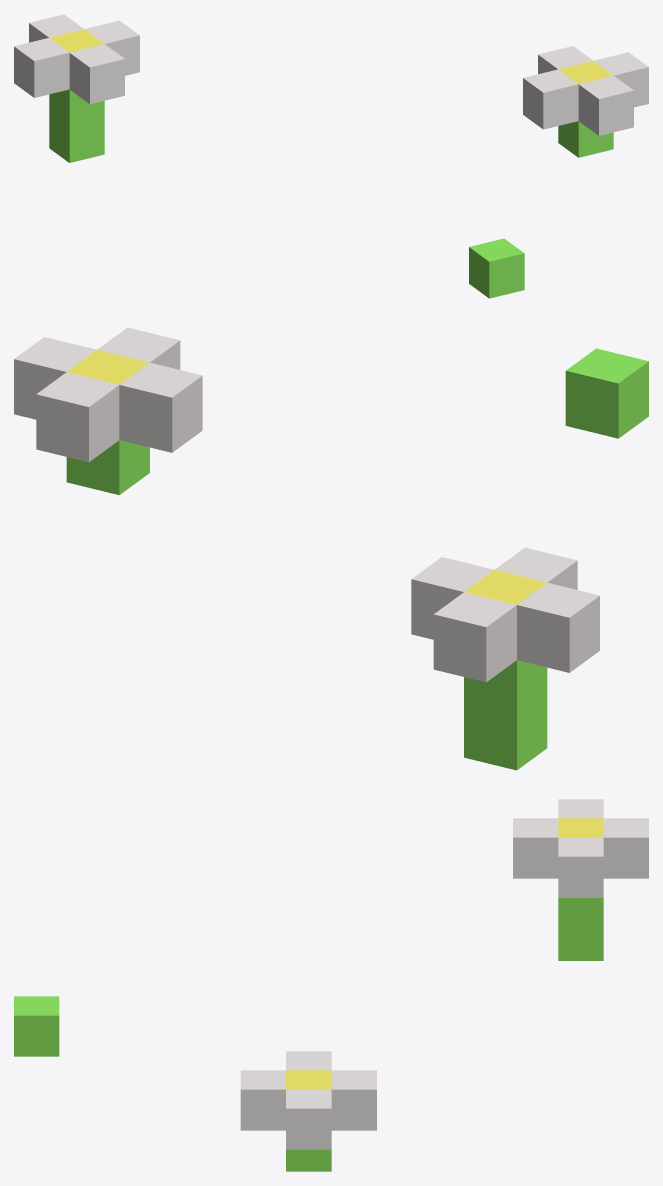
File: SimpleFlowers_Small.obj
The picture shows the model from 3 angles, top to bottom: view 1: azimuth 30°, elevation 25°; view 2: azimuth 150°, elevation 25°; view 3: azimuth 270°, elevation 25°; orthographic projection. The views are drawn at different scales.
Bounding box in the file's own units: 1.4 × 0.3 × 1.4.
Materials: 1 (1 with a texture image).
